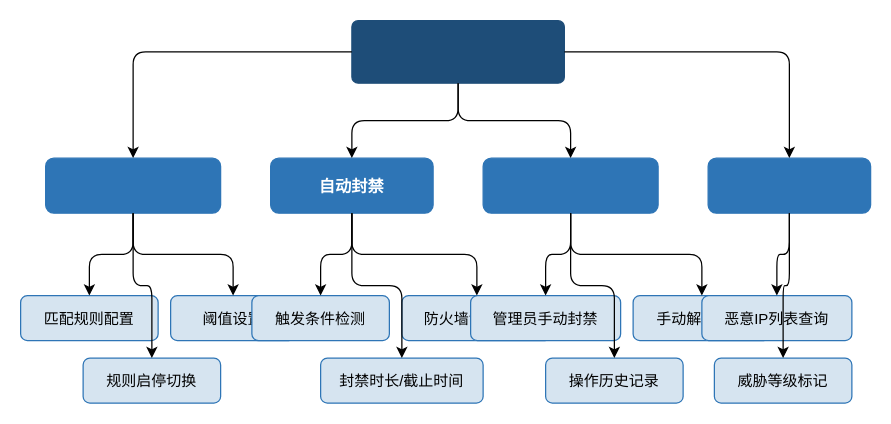
Image size: 891x424. Some labels were removed from this diagram. Here are the shapes that lost their labels. From the top down, the box of each, then its label:
(351, 19, 564, 83): IP封禁模块
(44, 157, 221, 213): 封禁规则管理
(482, 157, 658, 213): 手动封禁/解封
(707, 157, 871, 213): 黑名单管理
